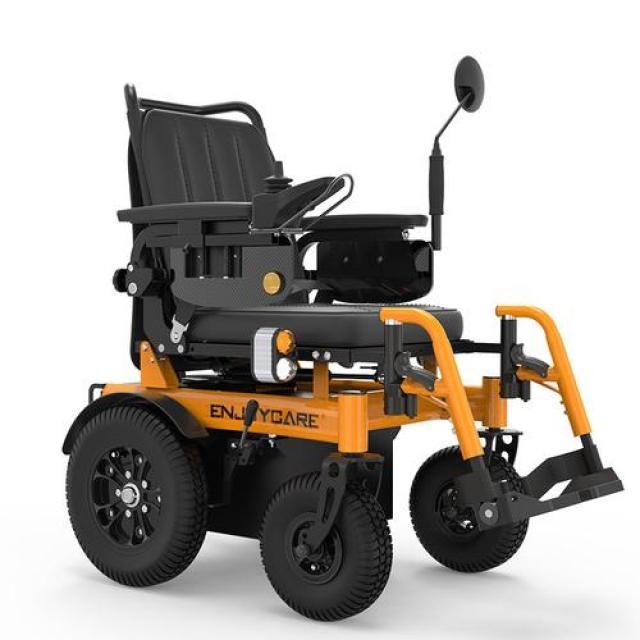wheelchairs: (51, 52, 624, 631)
